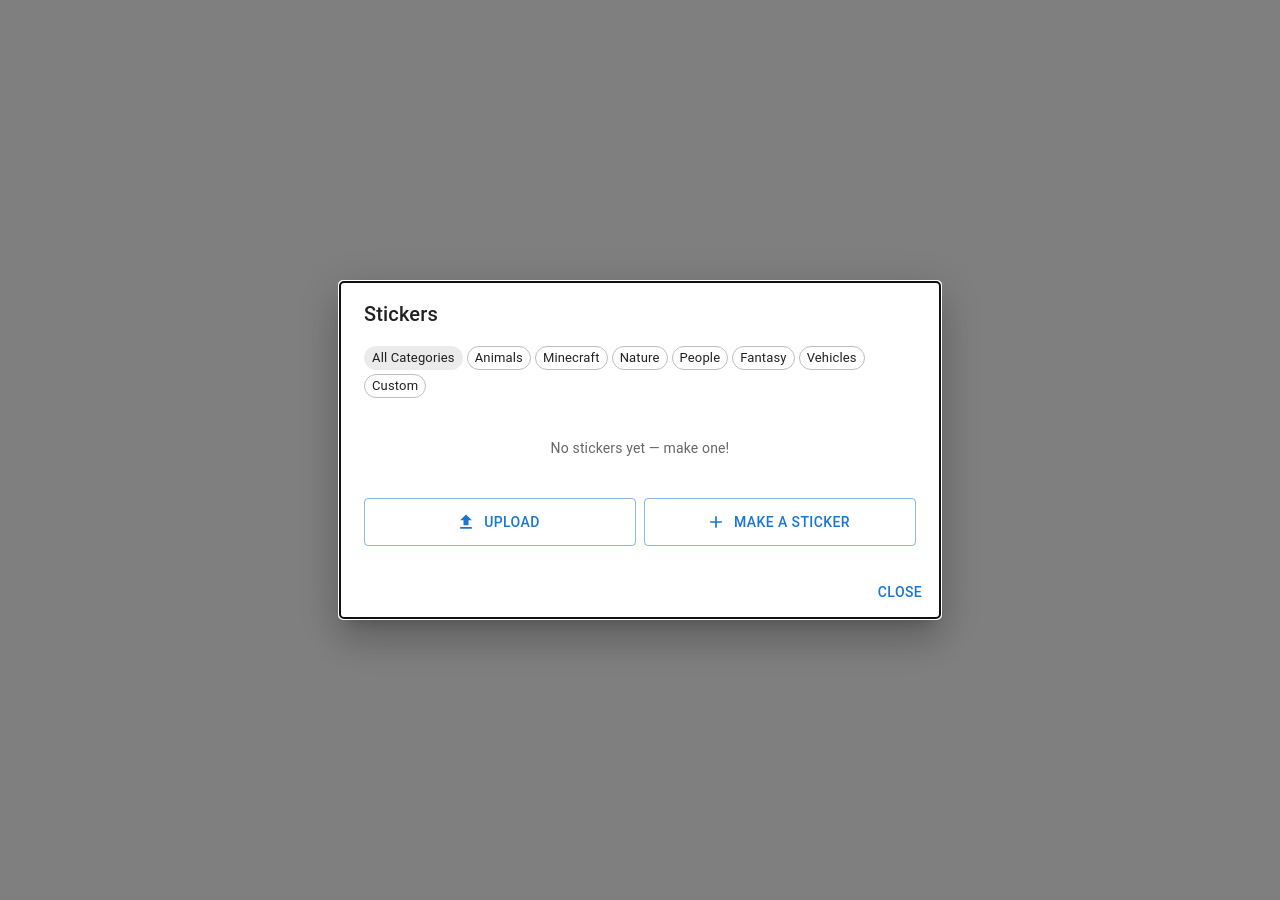
UX-147 — the picker's Make a Sticker door › carries a hint under the prompt and a "?" in the title
Click the button "Make a sticker": [780, 522] box 644,498 -> 916,546
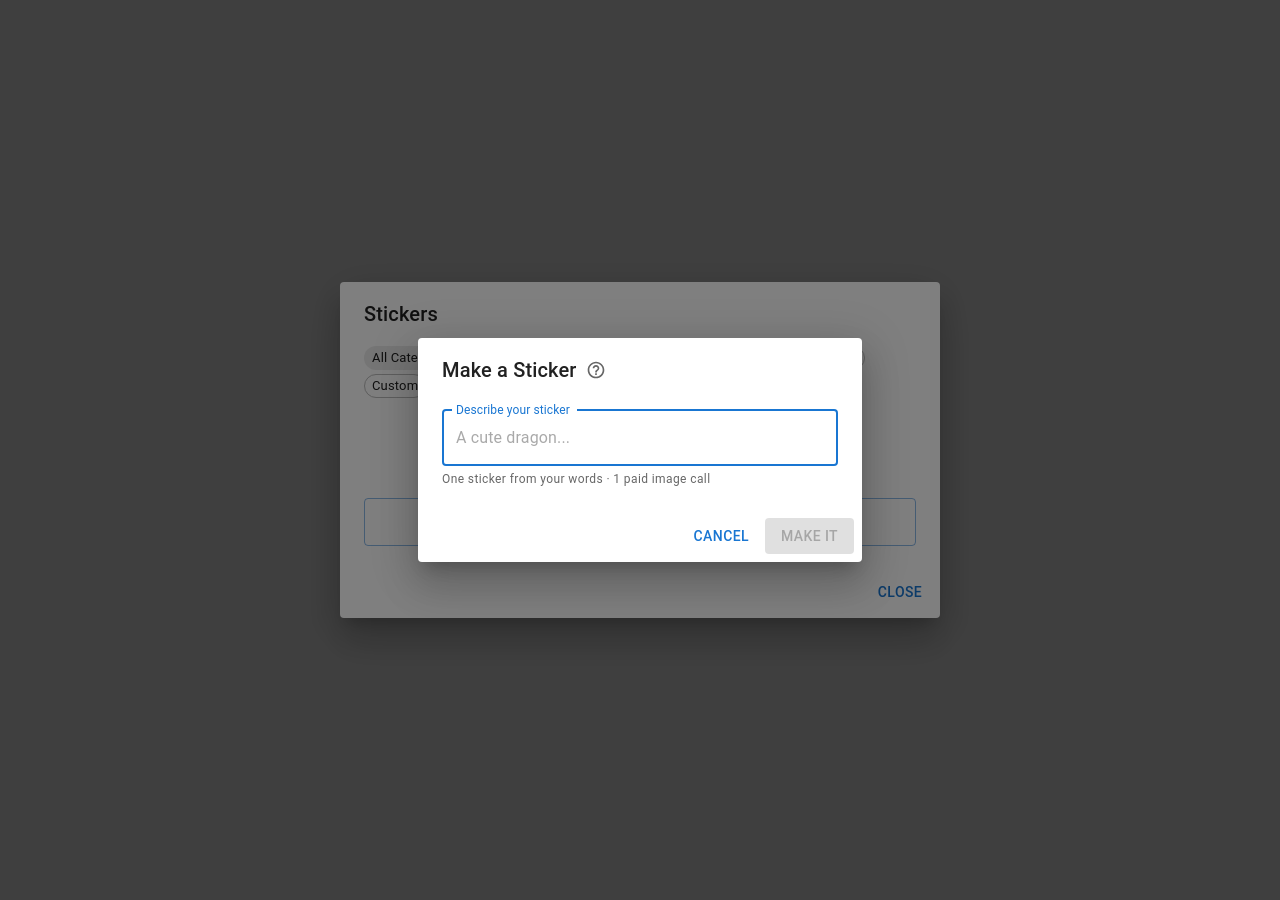
Result: the text "One sticker from your words · 1 paid image call" is shown at 442,472 -> 710,486
Result: the button named "how this works" is shown at 581,355 -> 611,385
